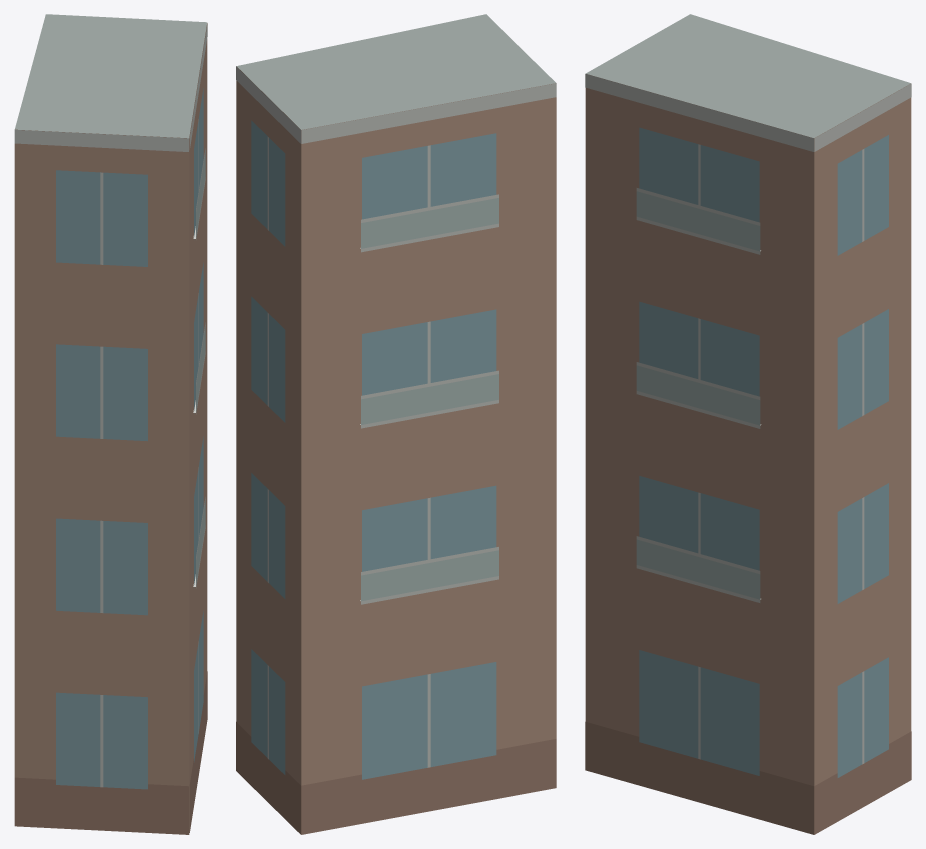
Rendered from survey-upis-32836821.glb.
The picture shows the model from 3 angles, left to right: view 1: azimuth 30°, elevation 25°; view 2: azimuth 150°, elevation 25°; view 3: azimuth 270°, elevation 25°; orthographic projection.
Parts seen in each view (by area): view 1: survey-upis-32836821.tmp; view 2: survey-upis-32836821.tmp; view 3: survey-upis-32836821.tmp.
Part boxes in pixels (x1=…): survey-upis-32836821.tmp: x1=14, y1=14, x2=207, y2=834; survey-upis-32836821.tmp: x1=236, y1=14, x2=556, y2=834; survey-upis-32836821.tmp: x1=585, y1=14, x2=911, y2=834.
Size of the model in its own units: 4.67 by 12.2 by 5.18.
